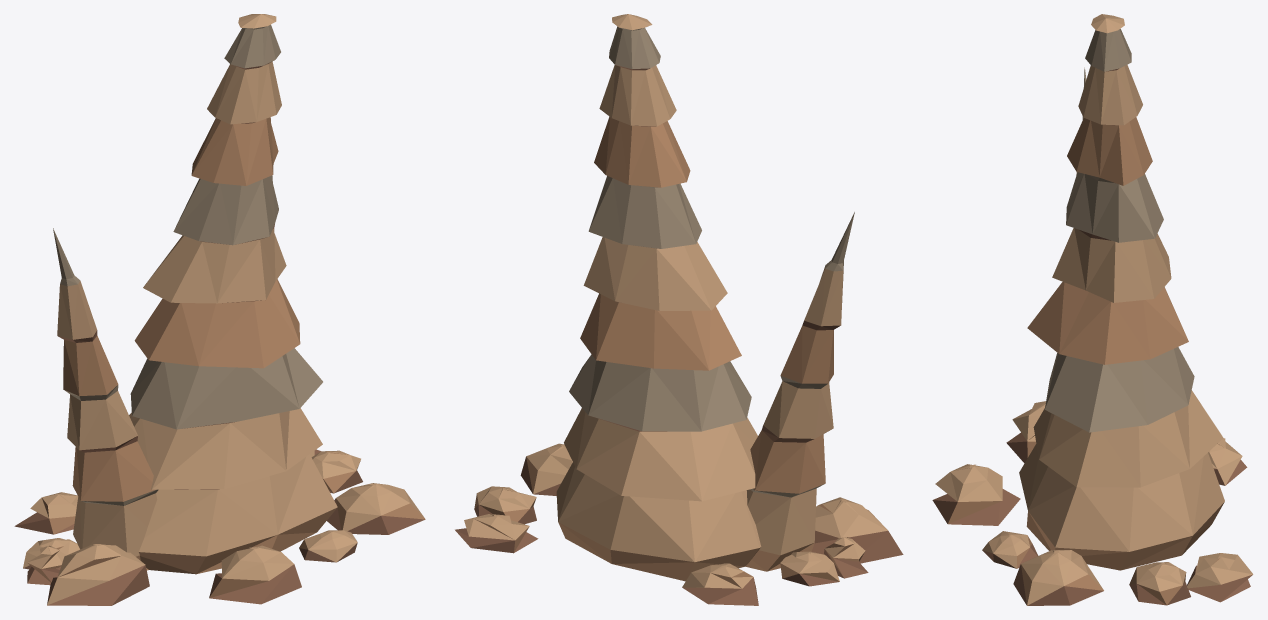
File: cliff_spire.glb
3 renders of one model, left to right at view 1: azimuth 30°, elevation 25°; view 2: azimuth 150°, elevation 25°; view 3: azimuth 270°, elevation 25°, orthographic. The views are drawn at different scales.
Visible parts, largest first — view 1: cliff_spire; view 2: cliff_spire; view 3: cliff_spire.
Boxes of the visible parts, x1=… form: cliff_spire: x1=14, y1=14, x2=425, y2=605; cliff_spire: x1=455, y1=14, x2=903, y2=605; cliff_spire: x1=932, y1=14, x2=1253, y2=605.
Bounding box in the file's own units: 4.6 × 6 × 3.33.
